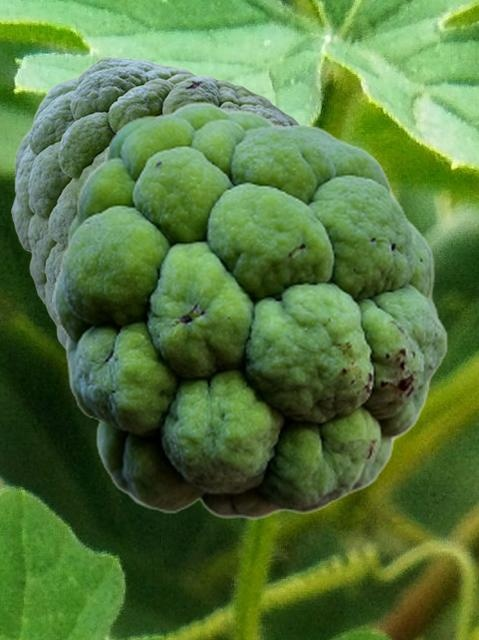atis: (52, 100, 447, 520), (11, 56, 299, 351)
